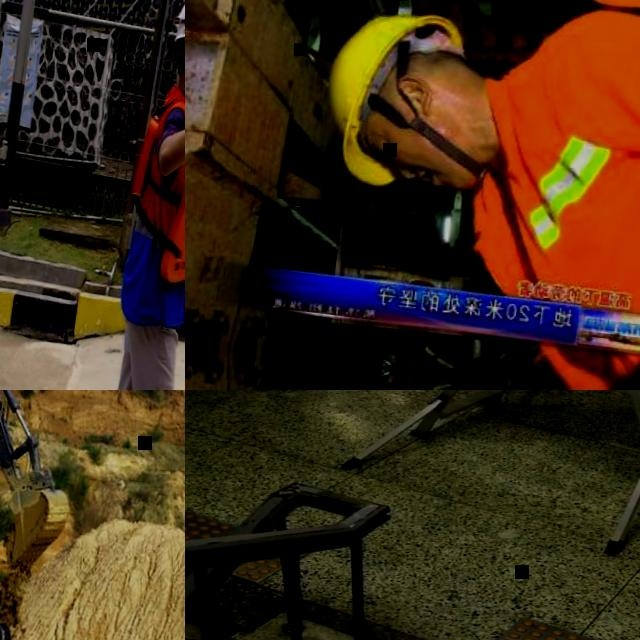Hardhat: (314, 0, 467, 195)
NO-Mask: (409, 89, 489, 195)
Person: (294, 0, 640, 371), (81, 0, 185, 390)
Safety Vest: (467, 86, 640, 369), (119, 107, 185, 286)
machinery: (0, 390, 95, 640), (0, 523, 185, 640)
